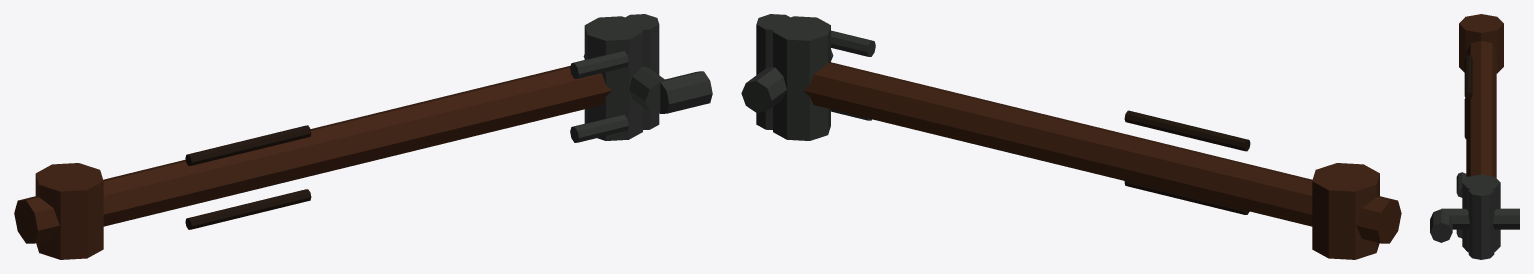
Rendered from hitch_lod1.obj.
3 renders of one model, left to right at view 1: azimuth 30°, elevation 25°; view 2: azimuth 150°, elevation 25°; view 3: azimuth 270°, elevation 25°, orthographic. The views are drawn at different scales.
Bounding box in the file's own units: 2.97 × 0.44 × 0.56.
